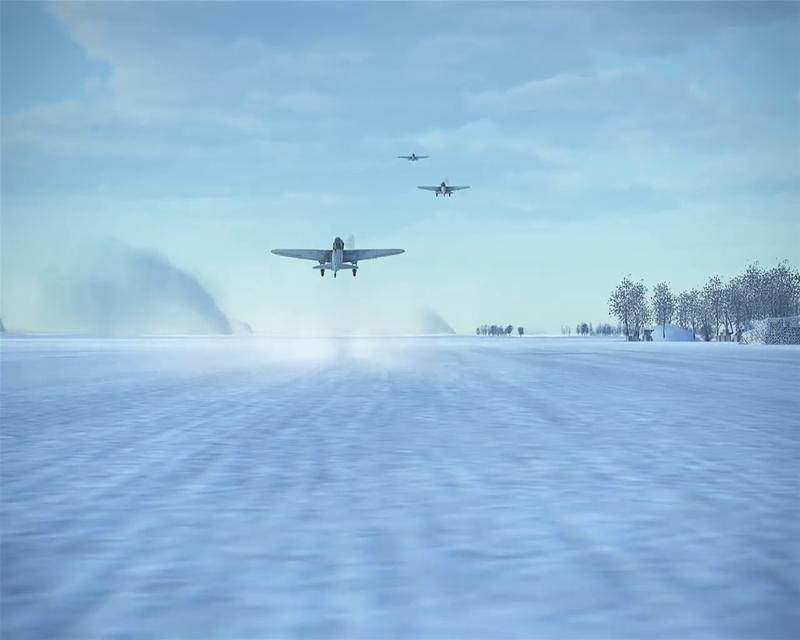UAV: (269, 233, 405, 278), (419, 179, 469, 200), (398, 150, 430, 164)
